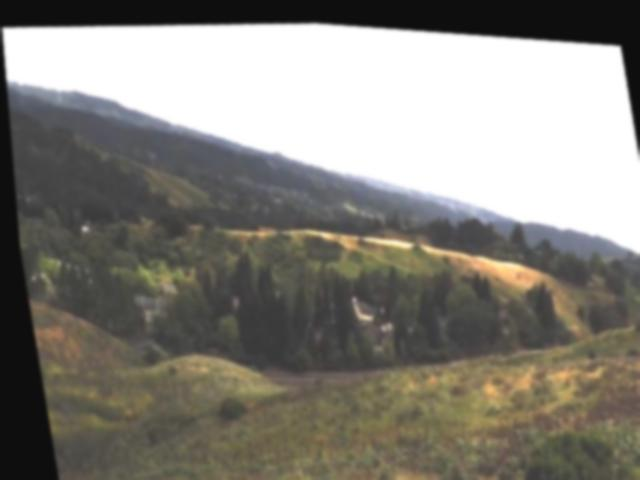iha: (511, 196, 540, 212)
